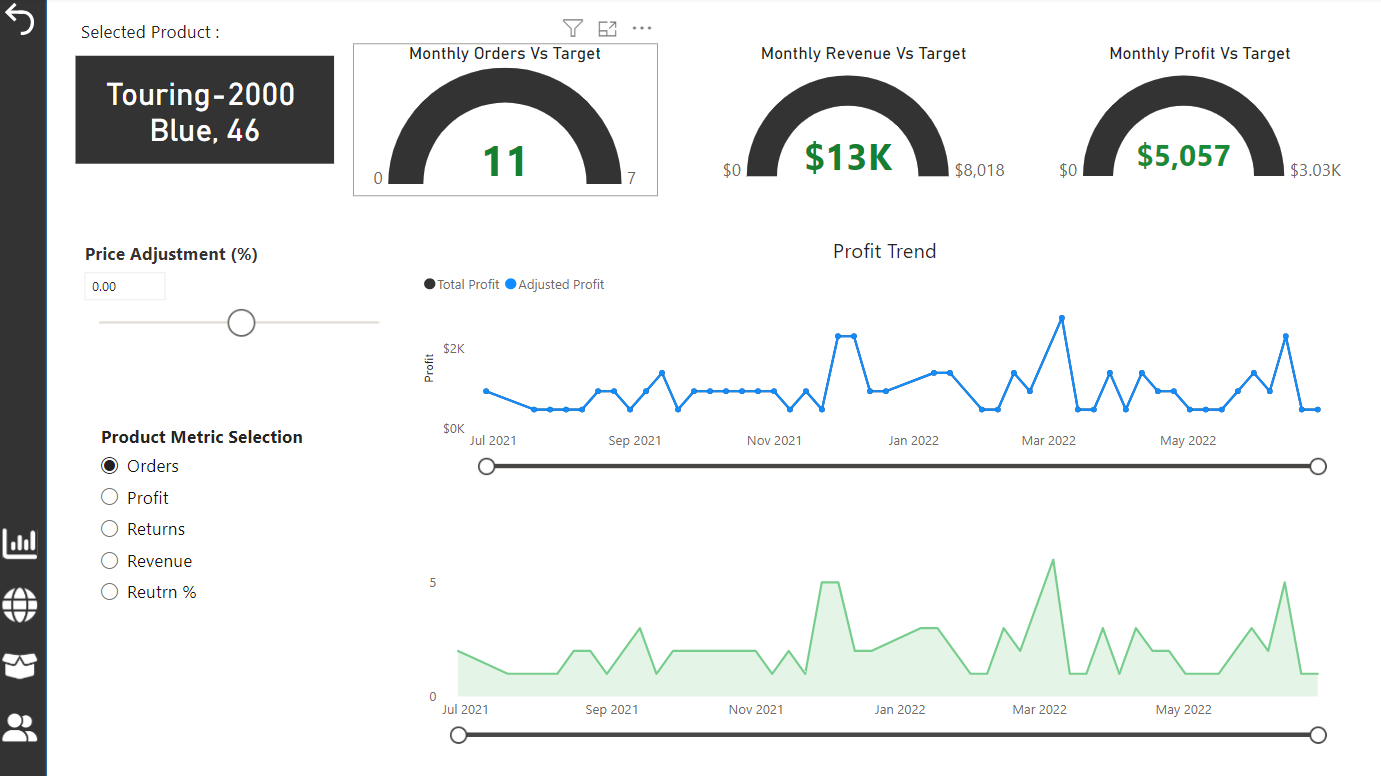

What the dashboard file says about the page in this screenshot:
{"tool":"powerbi","page":{"name":"Product Detail","canvas":[1280,720],"ordinal":2},"visuals":[{"type":"shape","box":[0,0,45,720],"z":0},{"type":"actionButton","box":[0,482.8,45,40.2],"z":0,"group":"g1"},{"type":"gauge","title":"Monthly Orders Vs Target","fields":{"Y":["Measure Table.Total Orders"],"MaxValue":["Measure Table.Order Target"]},"box":[326.6,42.6,279.3,139.6],"z":1000},{"type":"actionButton","box":[0,539.2,45,40.2],"z":1000,"group":"g1"},{"type":"gauge","title":"Monthly Revenue Vs Target","fields":{"Y":["Measure Table.Total Revenue"],"MaxValue":["Measure Table.Revenue Target"]},"box":[655.6,42.6,279.3,139.6],"z":2000},{"type":"actionButton","box":[0,652,45,40.2],"z":2000,"group":"g1"},{"type":"gauge","title":"Monthly Profit Vs Target","fields":{"Y":["Measure Table.Total Profit"],"MaxValue":["Measure Table.Profit Target"]},"box":[964.5,42.6,279.3,139.6],"z":3000},{"type":"actionButton","box":[0,595.6,45,40.2],"z":3000,"group":"g1"},{"type":"lineChart","title":"Profit Trend ","fields":{"Category":["Calendar Lookup.Date Hierarchy.Start of Year","Calendar Lookup.Date Hierarchy.Start of Month","Calendar Lookup.Date Hierarchy.Start of Week"],"Y":["Measure Table.Total Profit","Measure Table.Adjusted Profit"]},"box":[385.8,218.9,858,222.5],"z":4000},{"type":"areaChart","title":"Returns Trend","fields":{"Y":["Measure Table.Total Orders"],"Category":["Calendar Lookup.Date Hierarchy.Start of Year","Calendar Lookup.Date Hierarchy.Start of Month","Calendar Lookup.Date Hierarchy.Start of Week","Calendar Lookup.Date Hierarchy.Date"]},"box":[385.8,503,858,185.8],"z":5000},{"type":"card","fields":{"Values":["Min(Product Lookup.ProductName)"]},"box":[71,54.4,237.9,99.4],"z":6000},{"type":"textbox","box":[71,15.4,301.8,78.1],"z":7000},{"type":"actionButton","box":[0,0,100,40],"z":8000},{"type":"group","id":"g1","title":"Navigation Button ","box":[0,482.8,45,209.5],"z":9000},{"type":"slicer","fields":{"Values":["Price Adjustment (%).Price Adjustment (%)"]},"box":[66.3,218.9,306.5,152.7],"z":10000},{"type":"slicer","fields":{"Values":["Product Metric Selection .Product Metric Selection "]},"box":[81.7,387,245,201.2],"z":11000}]}

Visuals, with their boxes on the page's 1280x720 design canvas (x1, y1, x2, y2). These are canvas units, not pixel positions in the 1381x776 screenshot, which may show the page scaled, cropped or inside an application window:
shape: {"left": 0, "top": 0, "right": 45, "bottom": 720}
actionButton: {"left": 0, "top": 483, "right": 45, "bottom": 523}
"Monthly Orders Vs Target" gauge: {"left": 327, "top": 43, "right": 606, "bottom": 182}
actionButton: {"left": 0, "top": 539, "right": 45, "bottom": 579}
"Monthly Revenue Vs Target" gauge: {"left": 656, "top": 43, "right": 935, "bottom": 182}
actionButton: {"left": 0, "top": 652, "right": 45, "bottom": 692}
"Monthly Profit Vs Target" gauge: {"left": 964, "top": 43, "right": 1244, "bottom": 182}
actionButton: {"left": 0, "top": 596, "right": 45, "bottom": 636}
"Profit Trend " lineChart: {"left": 386, "top": 219, "right": 1244, "bottom": 441}
"Returns Trend" areaChart: {"left": 386, "top": 503, "right": 1244, "bottom": 689}
card - Min(Product Lookup.ProductName): {"left": 71, "top": 54, "right": 309, "bottom": 154}
textbox: {"left": 71, "top": 15, "right": 373, "bottom": 94}
actionButton: {"left": 0, "top": 0, "right": 100, "bottom": 40}
"Navigation Button " group: {"left": 0, "top": 483, "right": 45, "bottom": 692}
slicer - Price Adjustment (%).Price Adjustment (%): {"left": 66, "top": 219, "right": 373, "bottom": 372}
slicer - Product Metric Selection .Product Metric Selection : {"left": 82, "top": 387, "right": 327, "bottom": 588}
